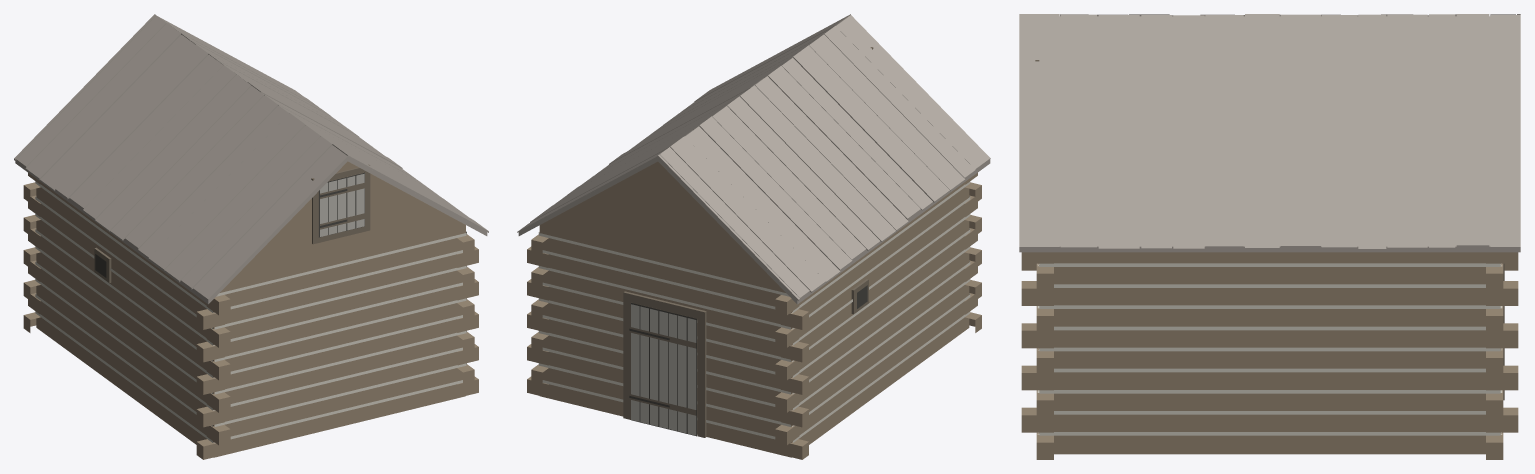
The model's file is recon_1835_blk_lake_franklin_a1_03__inferred_1835.glb.
3 renders of one model, left to right at view 1: azimuth 30°, elevation 25°; view 2: azimuth 150°, elevation 25°; view 3: azimuth 270°, elevation 25°, orthographic. The views are drawn at different scales.
Parts seen in each view (by area): view 1: recon_1835_blk_lake_franklin_a1_03__inferred_1835; view 2: recon_1835_blk_lake_franklin_a1_03__inferred_1835; view 3: recon_1835_blk_lake_franklin_a1_03__inferred_1835.
Part boxes in pixels (<box>): recon_1835_blk_lake_franklin_a1_03__inferred_1835: <box>14,14,488,459</box>; recon_1835_blk_lake_franklin_a1_03__inferred_1835: <box>517,14,990,459</box>; recon_1835_blk_lake_franklin_a1_03__inferred_1835: <box>1019,14,1520,459</box>.
Bounding box in the file's own units: 5.81 × 5.43 × 6.84.
